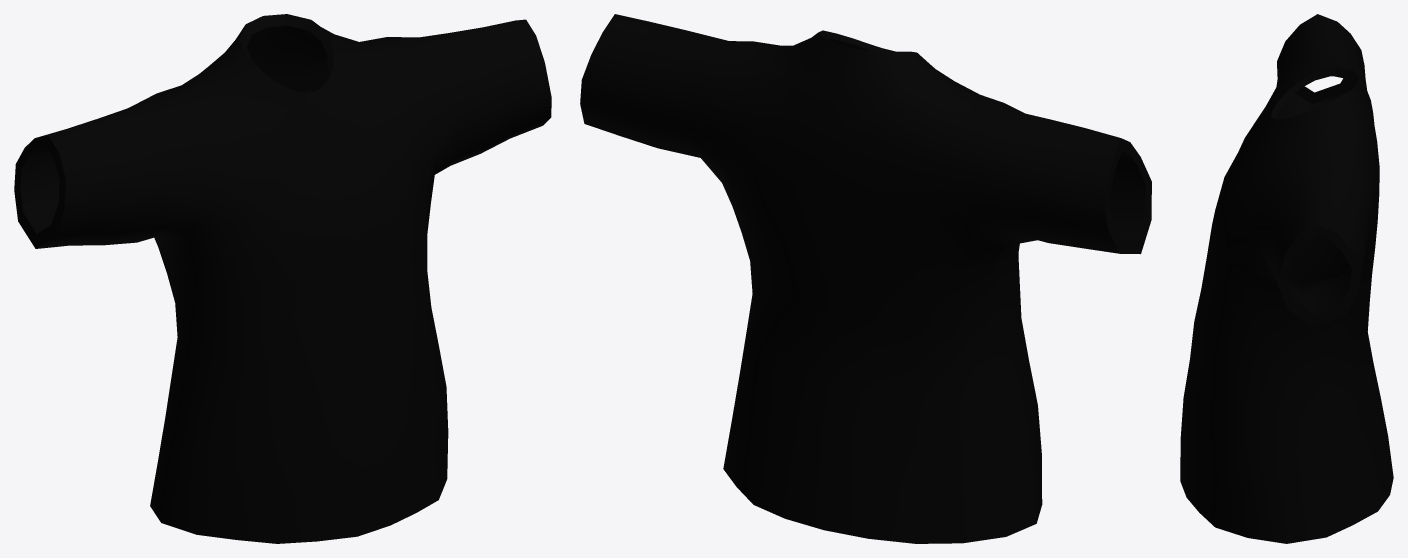
File: TShirt_145_b2.glb
The picture shows the model from 3 angles, left to right: view 1: azimuth 30°, elevation 25°; view 2: azimuth 150°, elevation 25°; view 3: azimuth 270°, elevation 25°; orthographic projection. The views are drawn at different scales.
Parts seen in each view (by area): view 1: TShirt_LP.001; view 2: TShirt_LP.001; view 3: TShirt_LP.001.
Part boxes in pixels (x1=…): TShirt_LP.001: x1=14, y1=14, x2=551, y2=543; TShirt_LP.001: x1=580, y1=14, x2=1151, y2=543; TShirt_LP.001: x1=1180, y1=14, x2=1393, y2=543.
Bounding box in the file's own units: 0.6266 × 0.5314 × 0.2526.
1 material, 1 textured.
